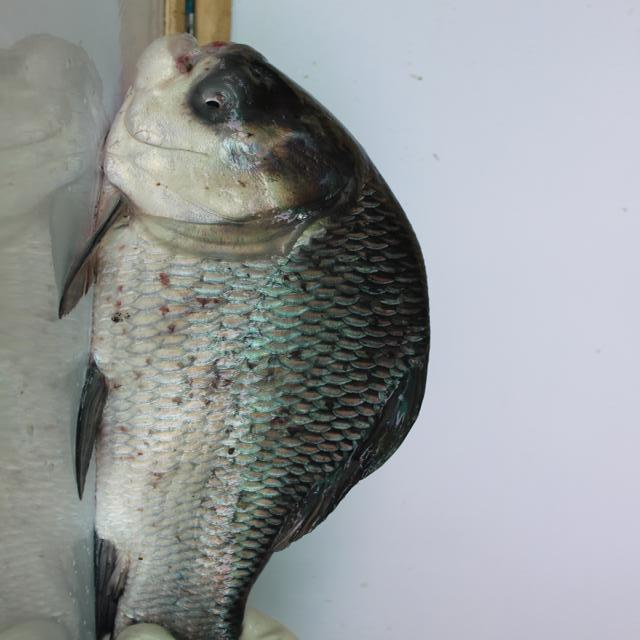Catla: (56, 17, 441, 640)
